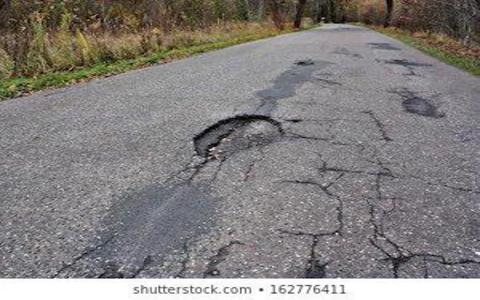patchy roads: (136, 51, 339, 228)
